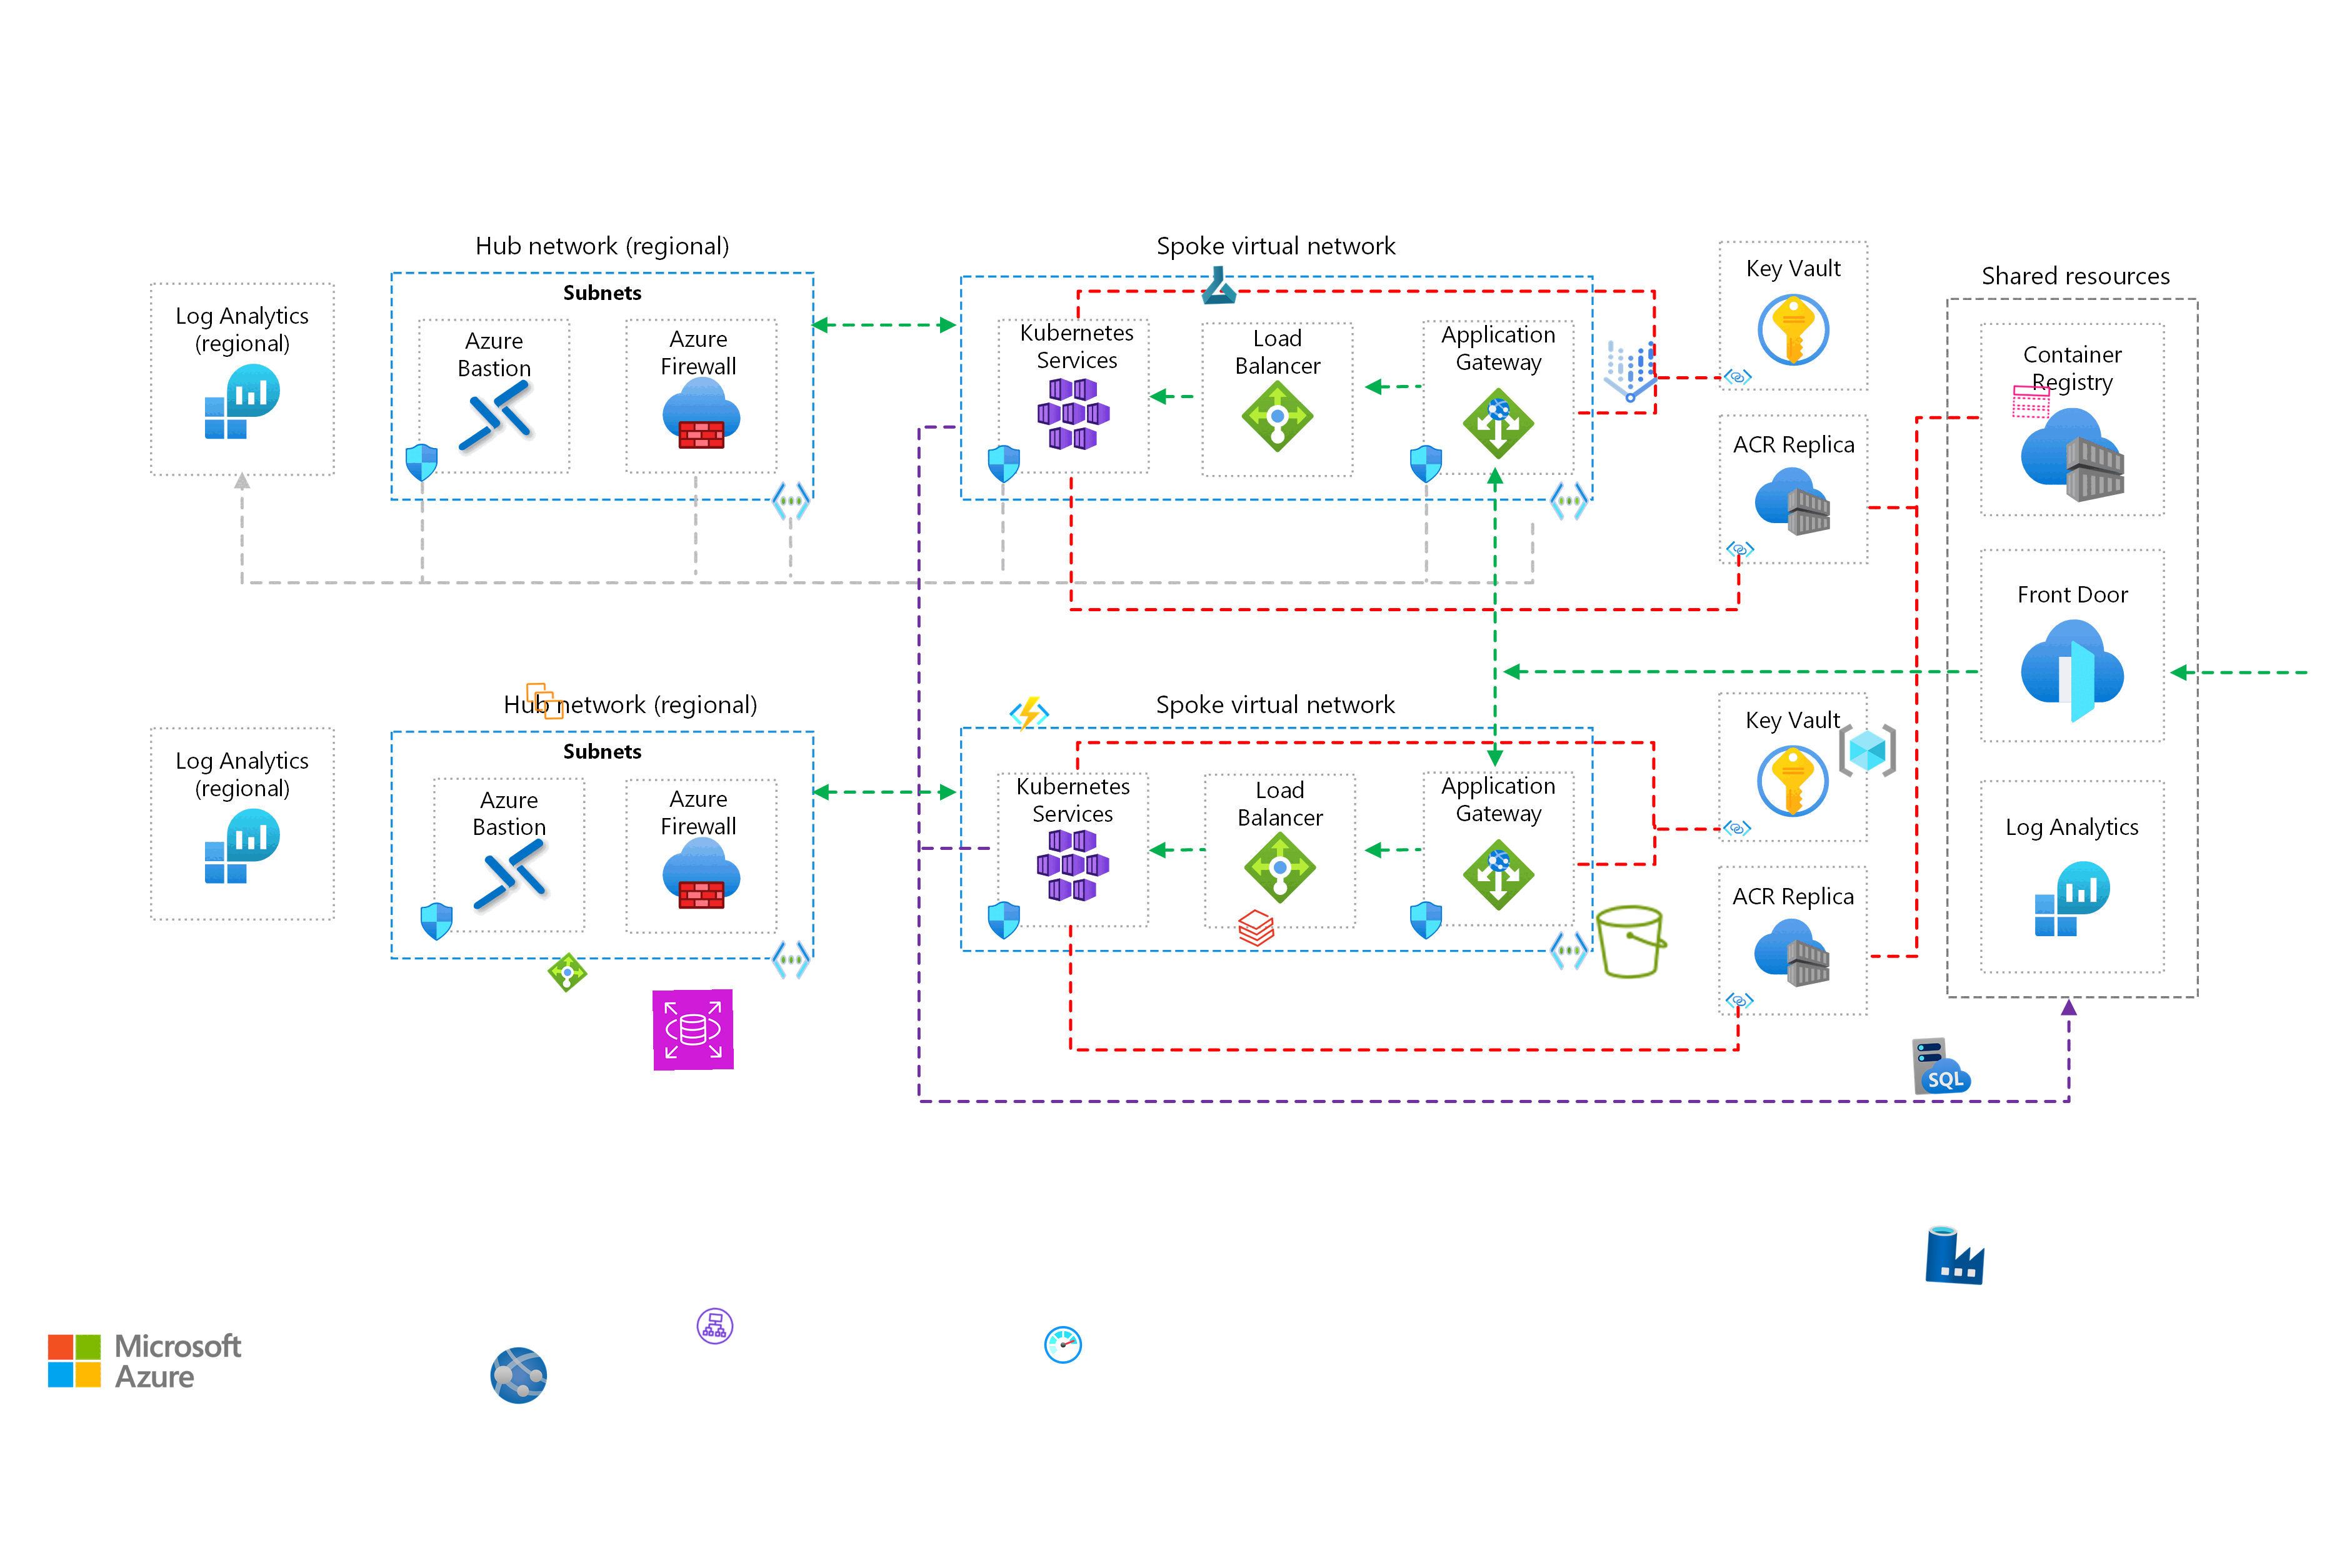aws_amazon_rds: (653, 989, 735, 1071)
aws_ec2_instances: (525, 681, 565, 721)
aws_elastic_load_balancing_application_load_balancer: (693, 1304, 737, 1347)
aws_simple_notification_service_topic: (2011, 380, 2053, 423)
aws_simple_storage_service_bucket: (1591, 899, 1673, 983)
azure_app_services: (488, 1344, 549, 1407)
azure_data_factories: (1923, 1223, 1988, 1288)
azure_databricks: (1234, 906, 1277, 950)
azure_function_apps: (1008, 693, 1050, 735)
azure_load_balancers: (546, 950, 590, 994)
azure_machine_learning: (1197, 264, 1241, 306)
azure_monitor: (1043, 1325, 1083, 1365)
azure_resource_groups: (1837, 719, 1899, 780)
azure_sql_managed_instance: (1909, 1034, 1974, 1097)
gcp_vertex_ai: (1591, 331, 1671, 413)
